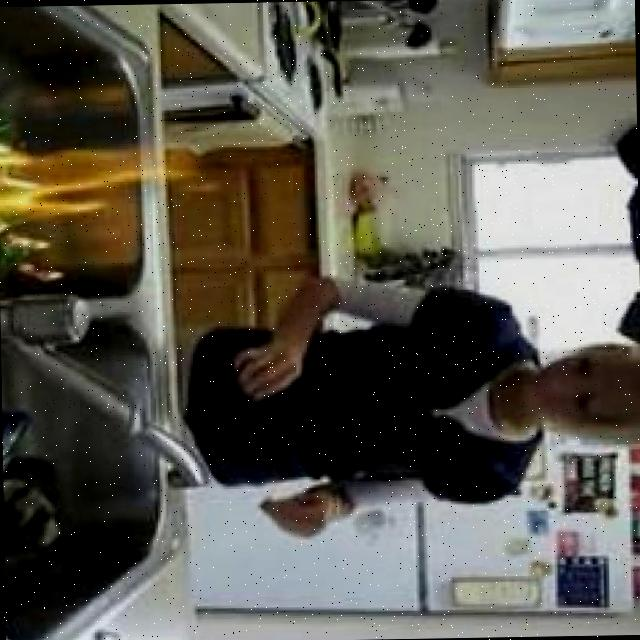fire: (0, 130, 191, 237), (0, 213, 73, 286)
